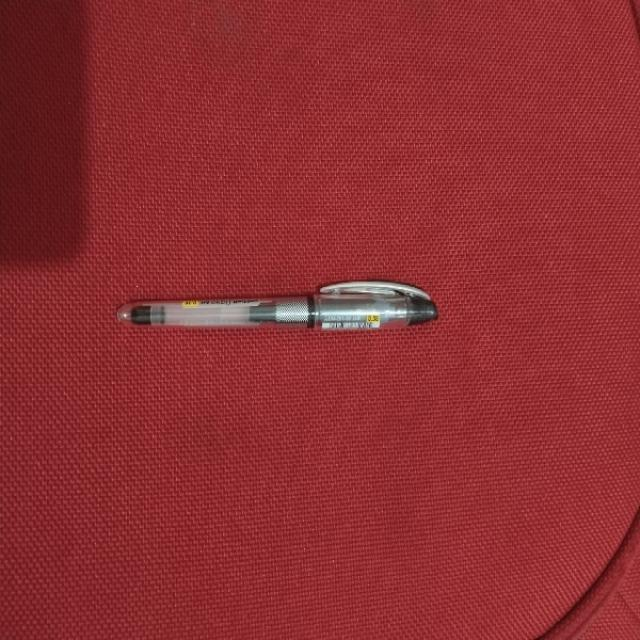pen: (118, 282, 437, 329)
